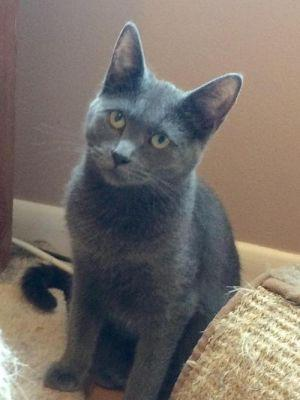rblue: (69, 24, 251, 214)
